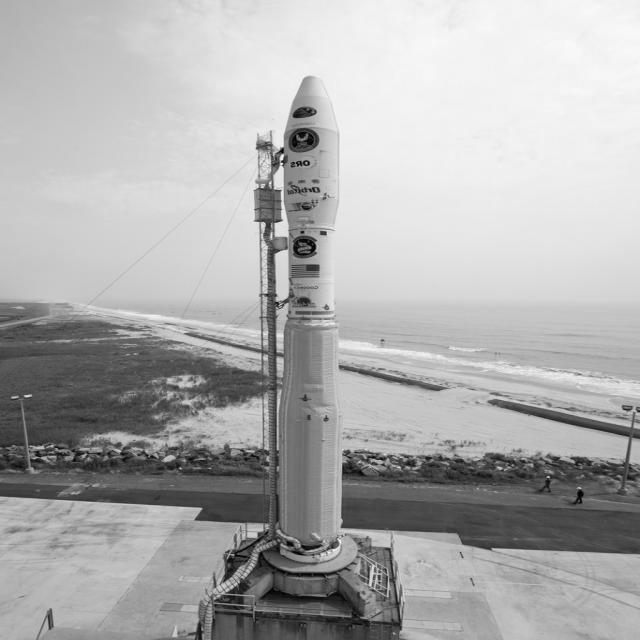missile: (276, 67, 348, 563)
